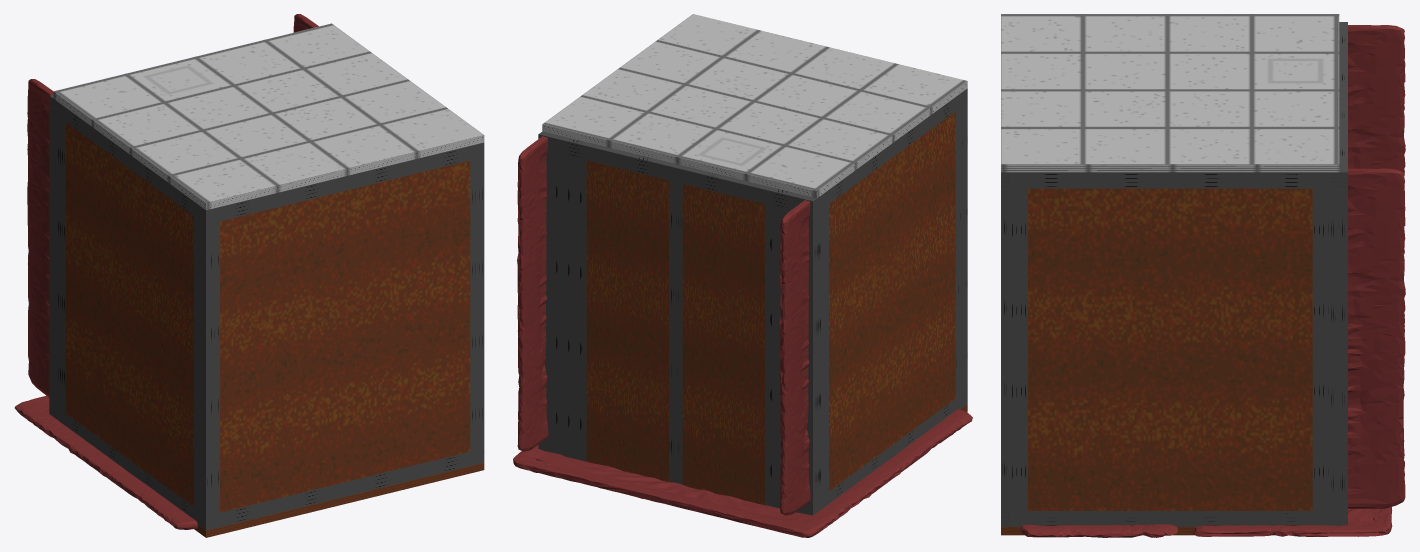
File: TempElevator.fbx
3 renders of one model, left to right at view 1: azimuth 30°, elevation 25°; view 2: azimuth 150°, elevation 25°; view 3: azimuth 270°, elevation 25°, orthographic. The views are drawn at different scales.
Parts seen in each view (by area): view 1: BackWall, Cube__1_, RightWall__5_, EvilDoor0_2__3_, RightWall__14_, RightWall__13_, RightWall__11_, RightWall__12_, EvilDoor0_2__2_, RightWall__7_, RightWall__6_, Floor (+4 smaller); view 2: Cube__1_, RightWall__5_, WoodenPanel, WoodPanel, BackMetal_1, EvilDoor0_2__2_, EvilDoor0_2__4_, EvilDoor0_2__3_, BackMetal, RightWall__15_, RightWall__6_, FrontMetal (+6 smaller); view 3: RightWall, Cube__1_, EvilDoor0_2__4_, EvilDoor0_2__3_, RightWall__4_, RightWall__3_, RightWall__1_, EvilDoor0_2__2_, RightWall__2_, RightDoor__3_, BackMetal_1, RightWall__13_ (+1 smaller).
Part boxes in pixels (x1=…): BackWall: x1=220, y1=160, x2=470, y2=512; Cube__1_: x1=53, y1=23, x2=484, y2=210; RightWall__5_: x1=65, y1=122, x2=193, y2=506; EvilDoor0_2__3_: x1=27, y1=79, x2=53, y2=397; RightWall__14_: x1=202, y1=221, x2=219, y2=515; RightWall__13_: x1=470, y1=157, x2=484, y2=451; RightWall__11_: x1=202, y1=142, x2=484, y2=224; RightWall__12_: x1=202, y1=448, x2=484, y2=530; EvilDoor0_2__2_: x1=14, y1=395, x2=197, y2=529; RightWall__7_: x1=57, y1=116, x2=65, y2=412; RightWall__6_: x1=194, y1=216, x2=201, y2=512; Floor: x1=194, y1=463, x2=484, y2=537; Cube__1_: x1=542, y1=14, x2=967, y2=198; RightWall__5_: x1=829, y1=111, x2=955, y2=491; WoodenPanel: x1=682, y1=184, x2=764, y2=504; WoodPanel: x1=586, y1=160, x2=668, y2=481; BackMetal_1: x1=538, y1=151, x2=586, y2=461; EvilDoor0_2__2_: x1=513, y1=409, x2=972, y2=537; EvilDoor0_2__4_: x1=517, y1=136, x2=548, y2=451; EvilDoor0_2__3_: x1=779, y1=200, x2=810, y2=515; BackMetal: x1=765, y1=204, x2=816, y2=515; RightWall__15_: x1=538, y1=131, x2=816, y2=215; RightWall__6_: x1=955, y1=106, x2=963, y2=398; FrontMetal: x1=675, y1=182, x2=682, y2=484; RightWall: x1=1028, y1=188, x2=1312, y2=510; Cube__1_: x1=1001, y1=14, x2=1339, y2=172; EvilDoor0_2__4_: x1=1348, y1=168, x2=1405, y2=508; EvilDoor0_2__3_: x1=1348, y1=25, x2=1405, y2=355; RightWall__4_: x1=1312, y1=188, x2=1330, y2=510; RightWall__3_: x1=1010, y1=188, x2=1027, y2=510; RightWall__1_: x1=1010, y1=172, x2=1330, y2=188; EvilDoor0_2__2_: x1=1020, y1=507, x2=1392, y2=537; RightWall__2_: x1=1010, y1=511, x2=1330, y2=526; RightDoor__3_: x1=1330, y1=188, x2=1339, y2=525; BackMetal_1: x1=1339, y1=188, x2=1347, y2=525; RightWall__13_: x1=1001, y1=188, x2=1009, y2=510.
Size of the model in its own units: 225 by 230 by 227.
